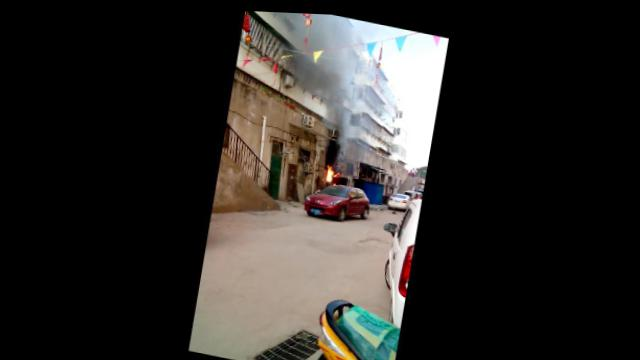fire: (325, 162, 335, 178), (334, 168, 340, 175)
